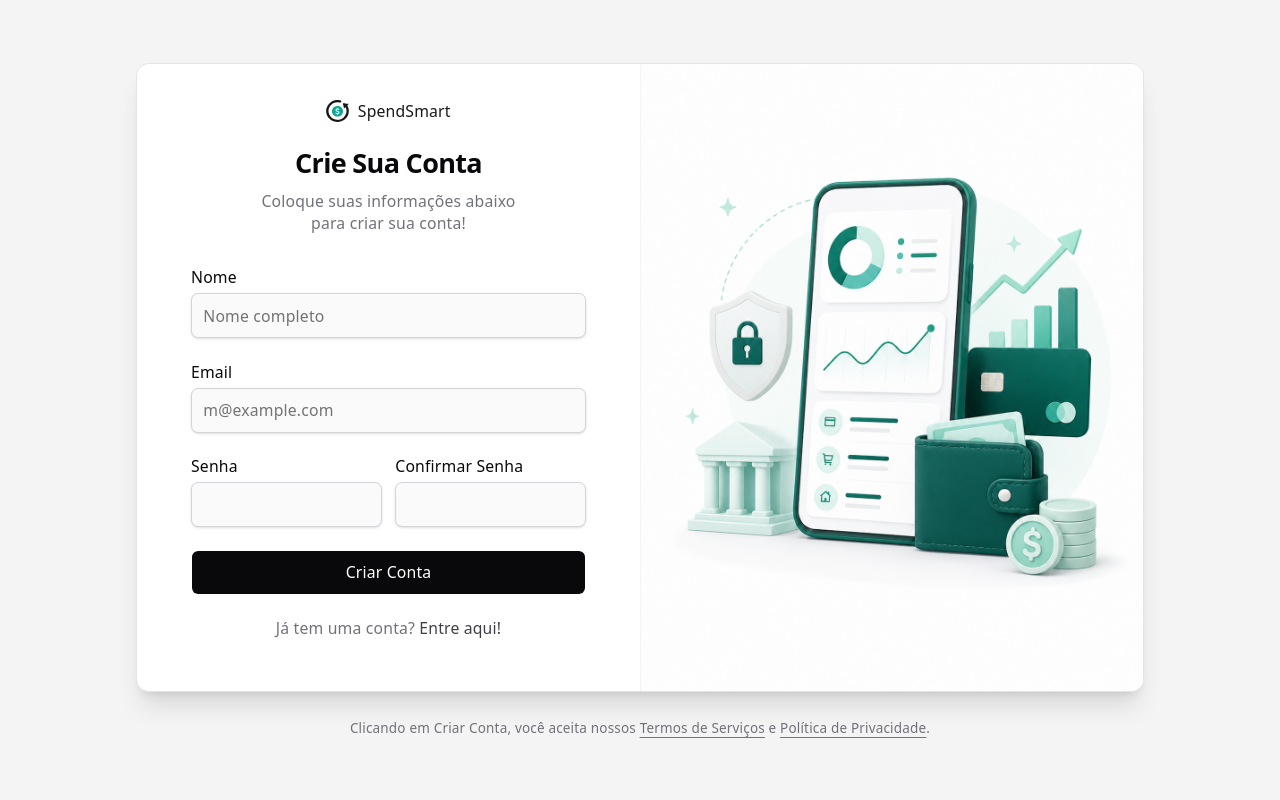
Test: Cadastro › deve cadastrar usuário válido, mostrar sucesso e navegar para login
This screenshot has width=1280, height=800.
Step 1. Type "Maria Luiza" into the field labelled "Nome" → (388, 316), box [191,293,586,338]
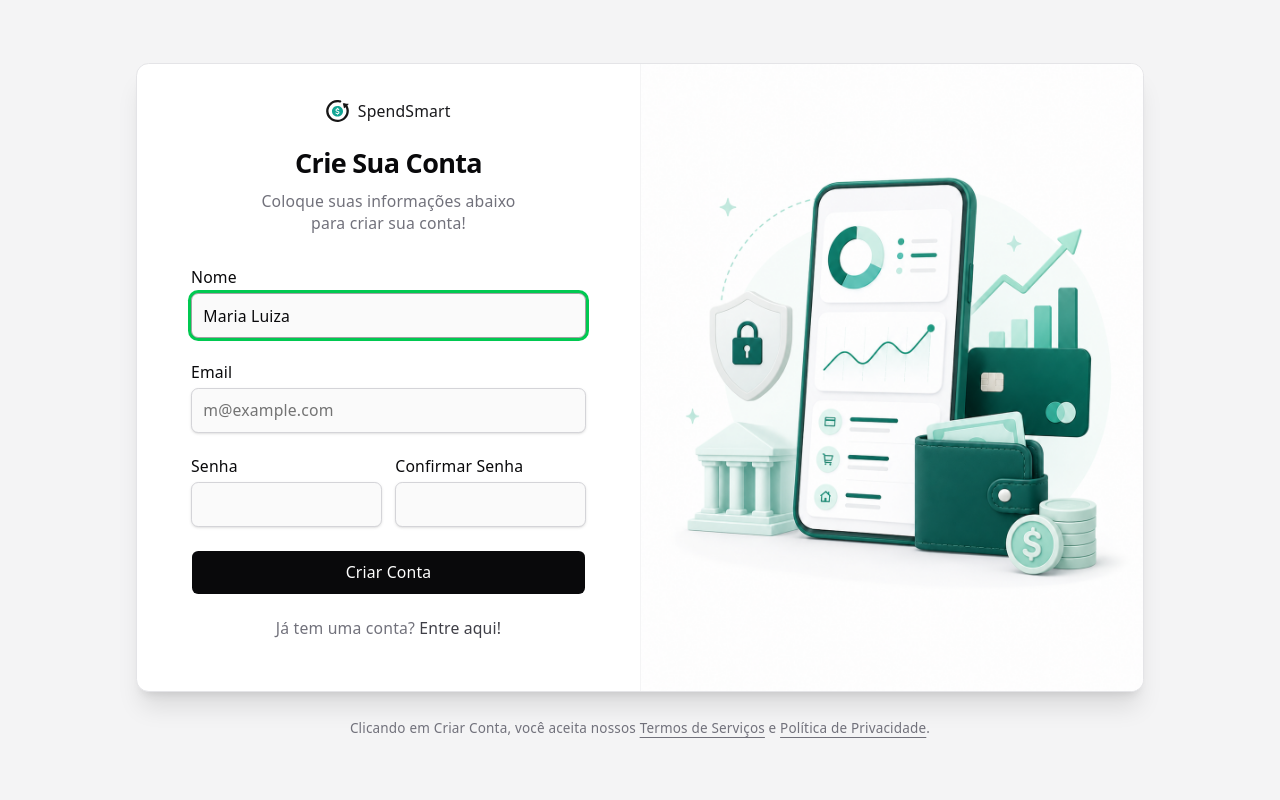
Step 2. Type "maria@email.com" into the field labelled "Email" → (388, 410), box [191,388,586,433]
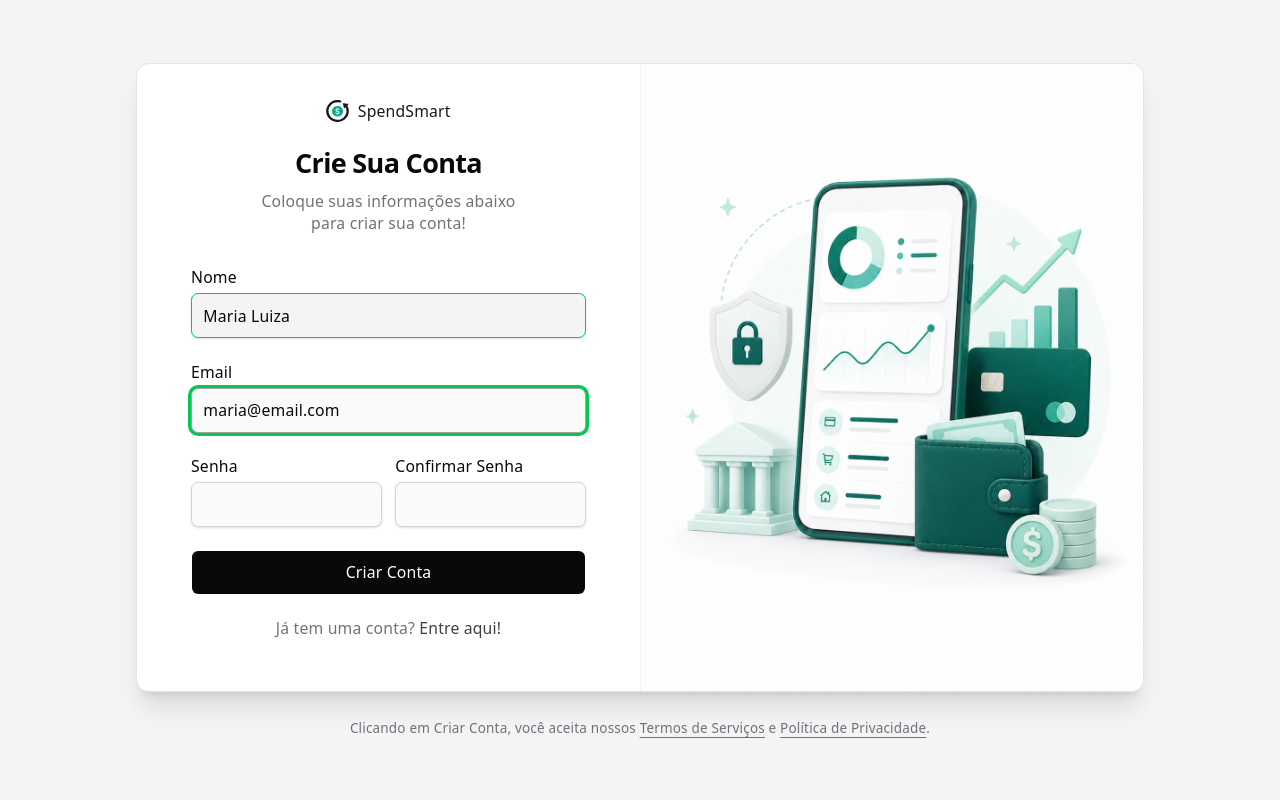
Step 3. Type "Senha123" into the password field labelled "Senha" → (286, 505), box [191,482,382,527]
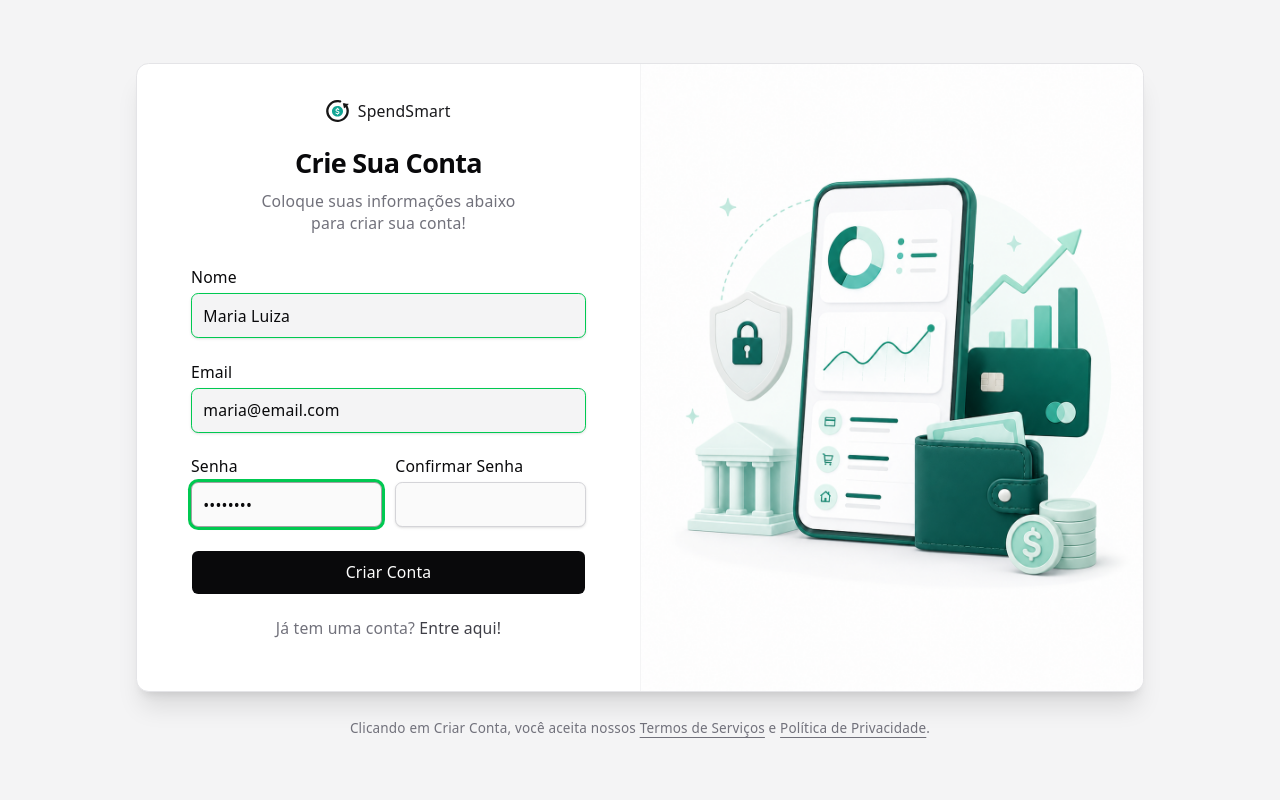
Step 4. Type "Senha123" into the password field labelled "Confirmar Senha" → (491, 505), box [395,482,586,527]
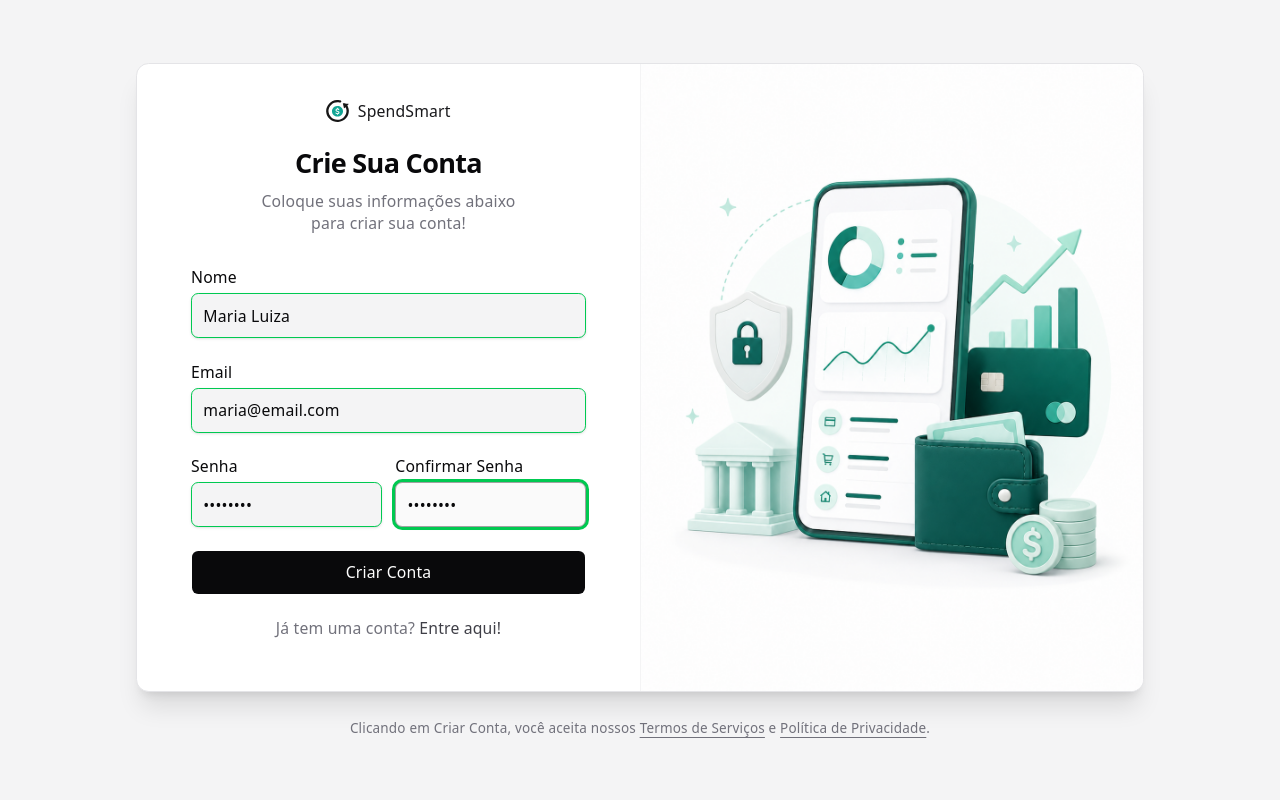
Step 5. Click the button "Criar Conta" → (388, 572), box [191,550,586,595]
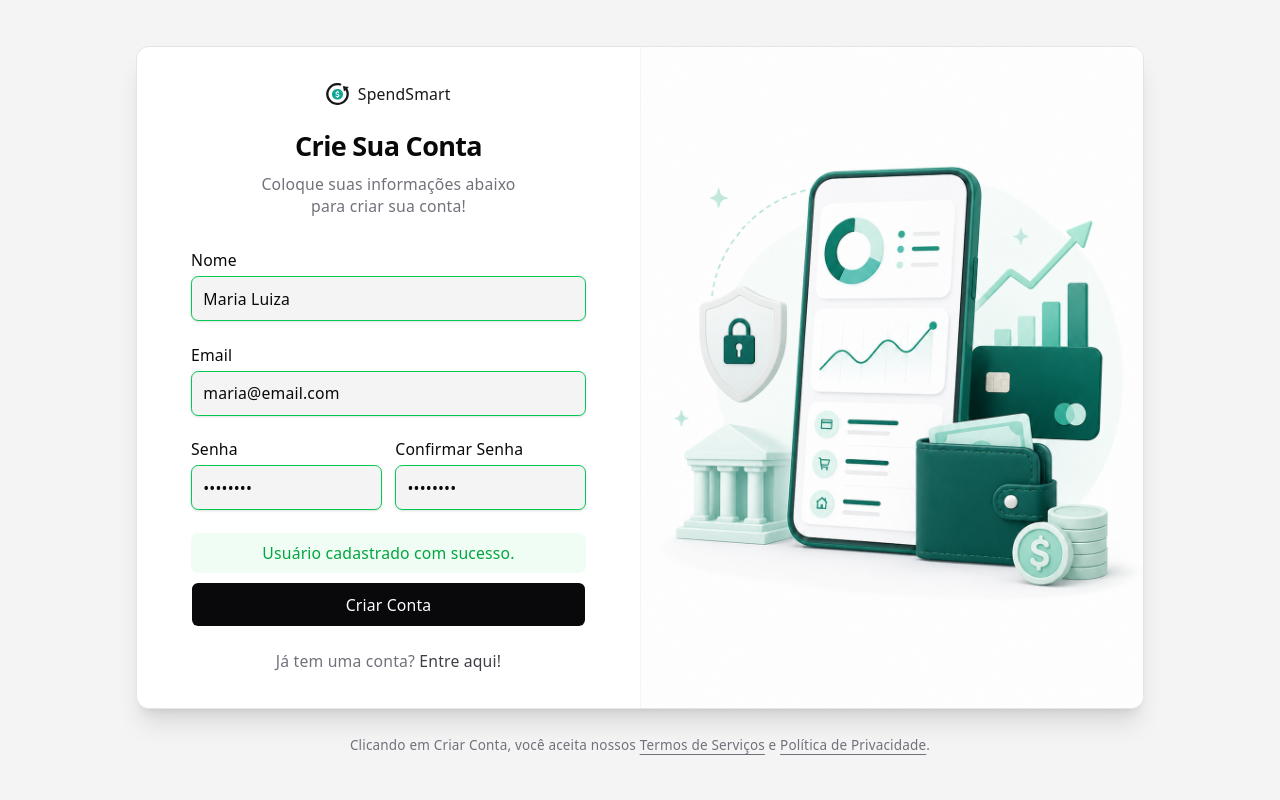
Result: the text "Usuário cadastrado com sucesso." is shown at [191,533,586,573]
